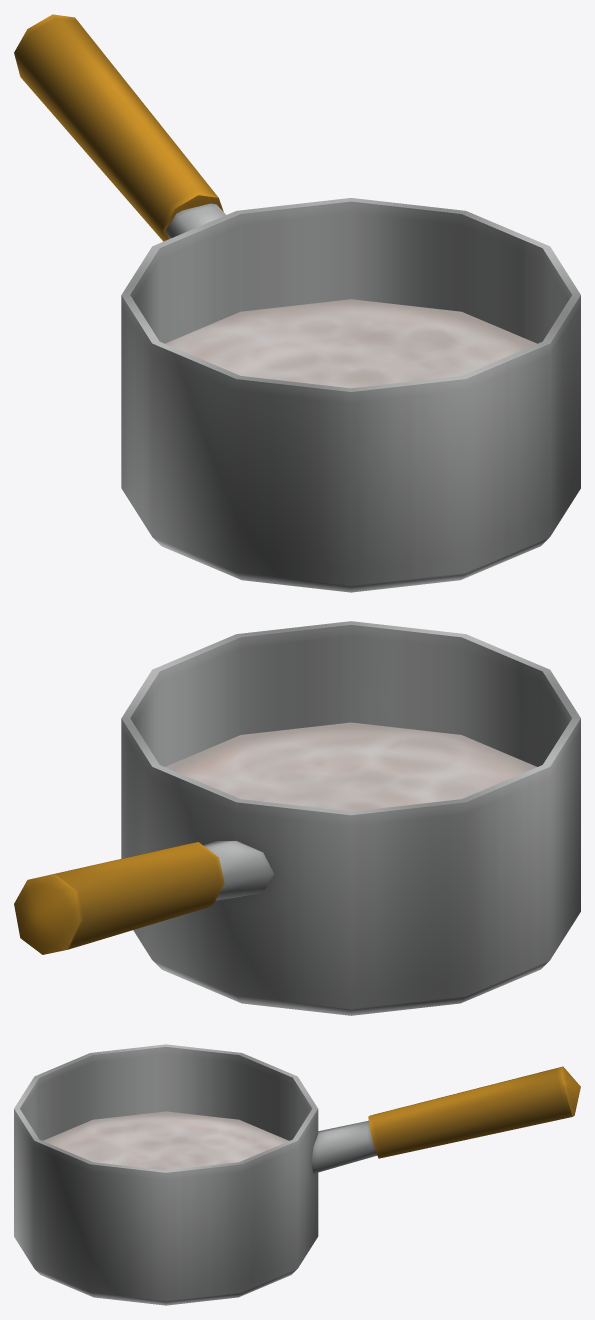
Rendered from jsf_Pot_01b.fbx.
The picture shows the model from 3 angles, top to bottom: view 1: azimuth 30°, elevation 25°; view 2: azimuth 150°, elevation 25°; view 3: azimuth 270°, elevation 25°; orthographic projection. The views are drawn at different scales.
Visible parts, largest first — view 1: jsf_Pot_01b; view 2: jsf_Pot_01b; view 3: jsf_Pot_01b.
Boxes of the visible parts, <box> form: jsf_Pot_01b: <box>14,14,580,592</box>; jsf_Pot_01b: <box>14,621,580,1015</box>; jsf_Pot_01b: <box>14,1044,580,1305</box>.
Size of the model in its own units: 18.61 by 11.94 by 34.69.
